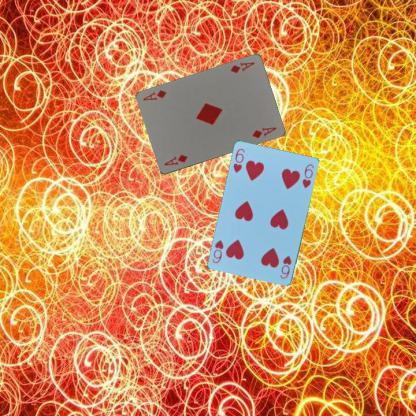6h: (277, 253, 293, 280), (231, 146, 246, 174)
Ad: (161, 152, 189, 167), (227, 60, 255, 74)
